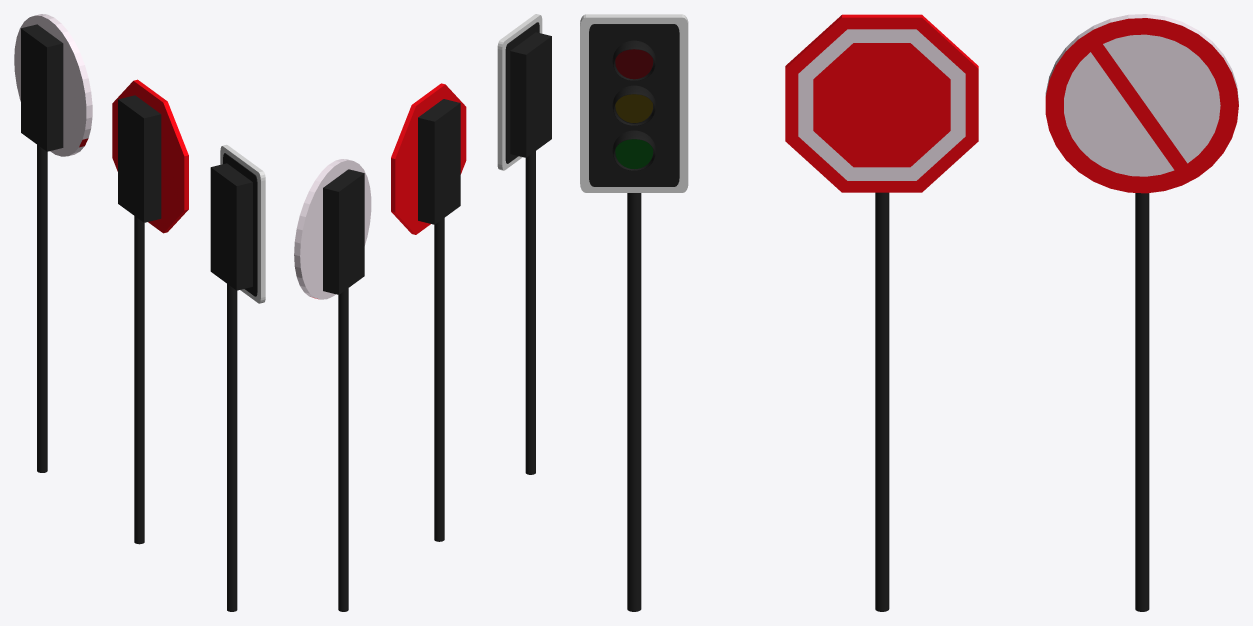
The model's file is semaforo.fbx.
The picture shows the model from 3 angles, left to right: view 1: azimuth 30°, elevation 25°; view 2: azimuth 150°, elevation 25°; view 3: azimuth 270°, elevation 25°; orthographic projection. The views are drawn at different scales.
Visible parts, largest first — view 1: Cube.006, Cube.009, Cube.002, Cylinder.008, Cylinder.010, Cylinder.009, Cylinder.011, Cylinder.003, Cube.001, Cube; view 2: Cube.006, Cube.009, Cube.002, Cylinder.008, Cylinder.010, Cylinder.009, Cylinder.011, Cylinder.003, Cube.001, Cube; view 3: Cylinder.008, Cylinder.010, Cube, Cylinder.009, Cylinder.003, Cylinder.011, Cube.001, Cylinder.004, Cylinder.006, Cylinder.005.
Part boxes in pixels (box(x1,y1,x2,y2)): Cube.006: box(118, 95, 161, 222); Cube.009: box(21, 24, 63, 151); Cube.002: box(210, 163, 252, 290); Cylinder.008: box(112, 79, 188, 233); Cylinder.010: box(14, 14, 92, 156); Cylinder.009: box(134, 216, 144, 544); Cylinder.011: box(37, 145, 47, 472); Cylinder.003: box(227, 284, 237, 611); Cube.001: box(220, 145, 265, 303); Cube: box(223, 153, 257, 296); Cube.006: box(418, 99, 460, 224); Cube.009: box(323, 169, 364, 294); Cube.002: box(510, 32, 551, 157); Cylinder.008: box(391, 83, 466, 234); Cylinder.010: box(294, 159, 371, 299); Cylinder.009: box(434, 218, 444, 541); Cylinder.011: box(338, 288, 348, 611); Cylinder.003: box(525, 151, 535, 474); Cube.001: box(497, 14, 542, 170); Cube: box(505, 22, 539, 163); Cylinder.008: box(785, 14, 978, 192); Cylinder.010: box(1045, 14, 1238, 193); Cube: box(589, 24, 679, 186); Cylinder.009: box(875, 192, 889, 611); Cylinder.003: box(627, 193, 641, 611); Cylinder.011: box(1135, 193, 1149, 611); Cube.001: box(580, 14, 688, 192); Cylinder.004: box(615, 49, 653, 79); Cylinder.006: box(615, 139, 653, 169); Cylinder.005: box(615, 94, 652, 122).
Bounding box in the file's own units: 36.99 × 467 × 465.
